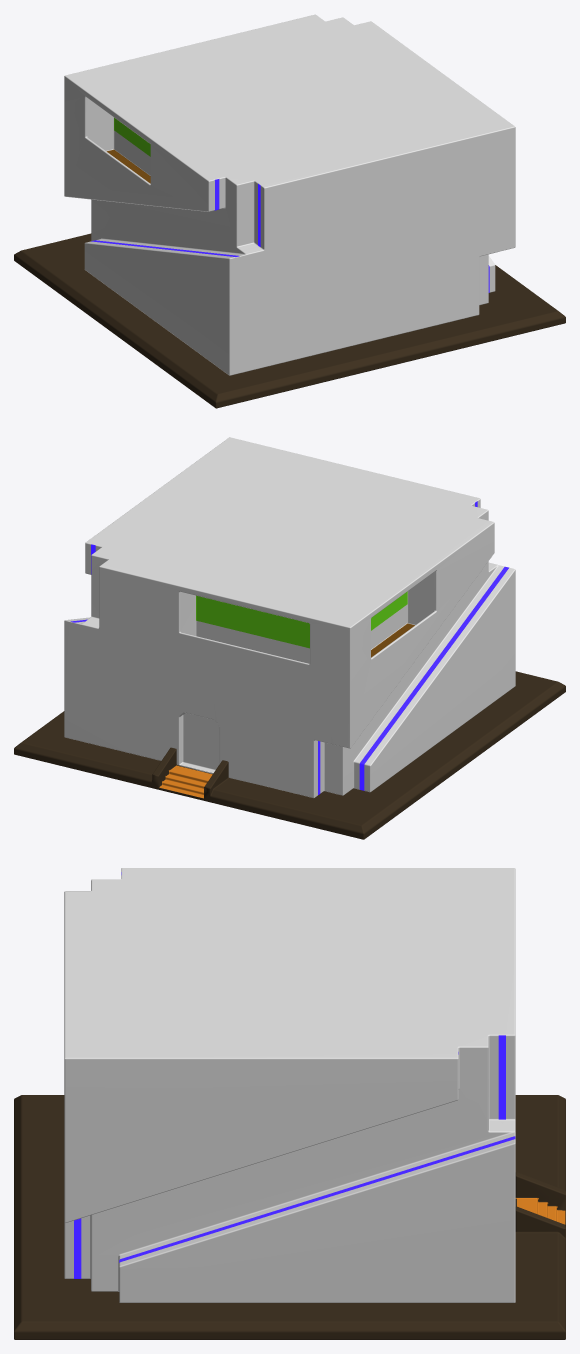
File: SM_B_i3_Base_Flor.fbx
3 renders of one model, top to bottom at view 1: azimuth 30°, elevation 25°; view 2: azimuth 150°, elevation 25°; view 3: azimuth 270°, elevation 25°, orthographic. The views are drawn at different scales.
Parts seen in each view (by area): view 1: Bil3_Base_floor; view 2: Bil3_Base_floor; view 3: Bil3_Base_floor.
Part boxes in pixels (x1,y1,x2,y2): Bil3_Base_floor: [14, 14, 565, 408]; Bil3_Base_floor: [14, 437, 565, 839]; Bil3_Base_floor: [14, 868, 565, 1339].
Size of the model in its own units: 2100 by 1095 by 2100.
